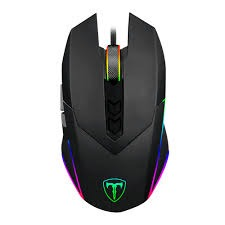mouse: (58, 11, 173, 219)
